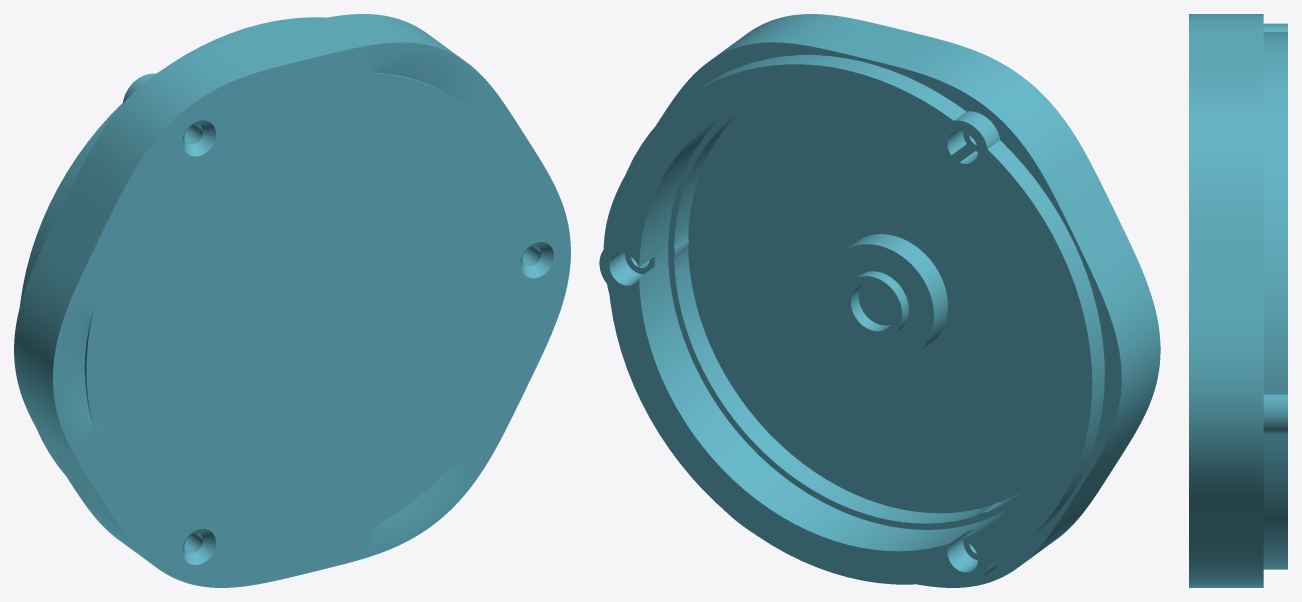
The model's file is Cap_thumb_scoop.glb.
3 renders of one model, left to right at view 1: azimuth 30°, elevation 25°; view 2: azimuth 150°, elevation 25°; view 3: azimuth 270°, elevation 25°, orthographic. The views are drawn at different scales.
Parts seen in each view (by area): view 1: Cap_thumb_scoop_0; view 2: Cap_thumb_scoop_0; view 3: Cap_thumb_scoop_0.
Boxes of the visible parts, x1,y1,x2,y2 form: Cap_thumb_scoop_0: [14, 14, 570, 587]; Cap_thumb_scoop_0: [599, 14, 1160, 587]; Cap_thumb_scoop_0: [1189, 14, 1287, 587].
Bounding box in the file's own units: 61.6 × 58.4 × 10.6.
